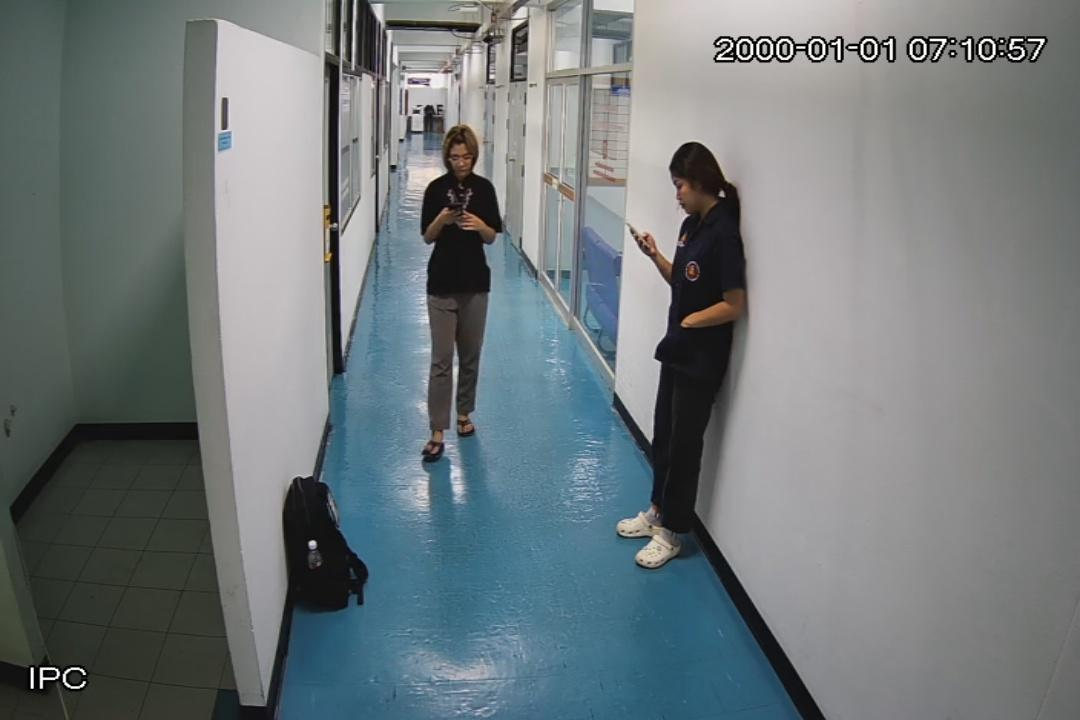normal: (620, 141, 750, 569), (416, 128, 504, 464)
